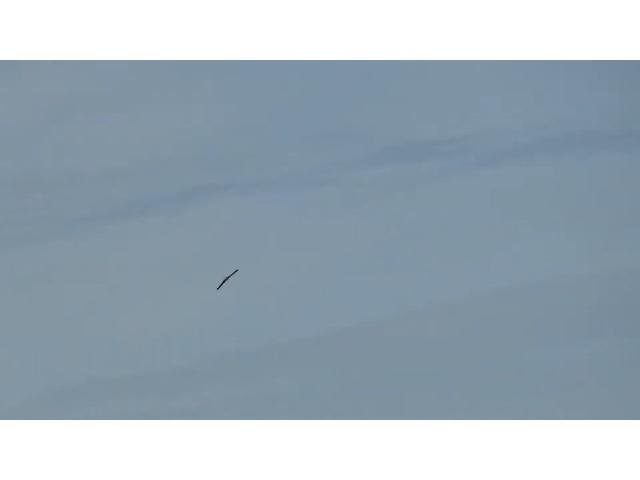Anti-Drone: (218, 270, 238, 290)
